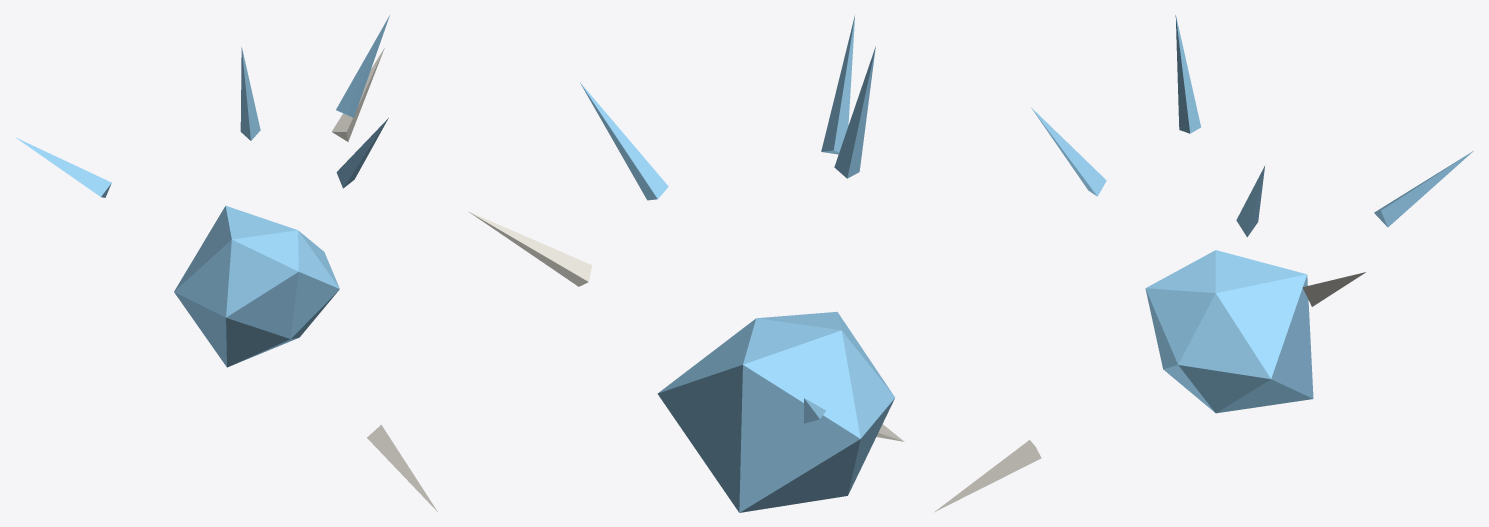
Rendered from frame_2.glb.
The picture shows the model from 3 angles, left to right: view 1: azimuth 30°, elevation 25°; view 2: azimuth 150°, elevation 25°; view 3: azimuth 270°, elevation 25°; orthographic projection. The views are drawn at different scales.
Visible parts, largest first — view 1: effect_electric_spark_frame_2; view 2: effect_electric_spark_frame_2; view 3: effect_electric_spark_frame_2.
Part boxes in pixels (left/top/right/bottom): effect_electric_spark_frame_2: left=15, top=15, right=437, bottom=511; effect_electric_spark_frame_2: left=468, top=14, right=904, bottom=512; effect_electric_spark_frame_2: left=934, top=15, right=1473, bottom=512.
Bounding box in the file's own units: 3.85 × 4.67 × 5.08.
